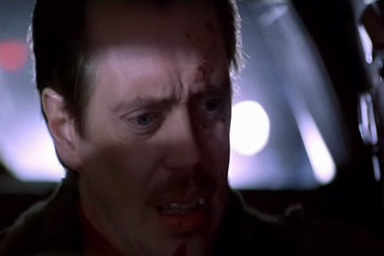ecu: (1, 1, 384, 256)
face: (90, 25, 232, 256)
person: (1, 1, 317, 256)
